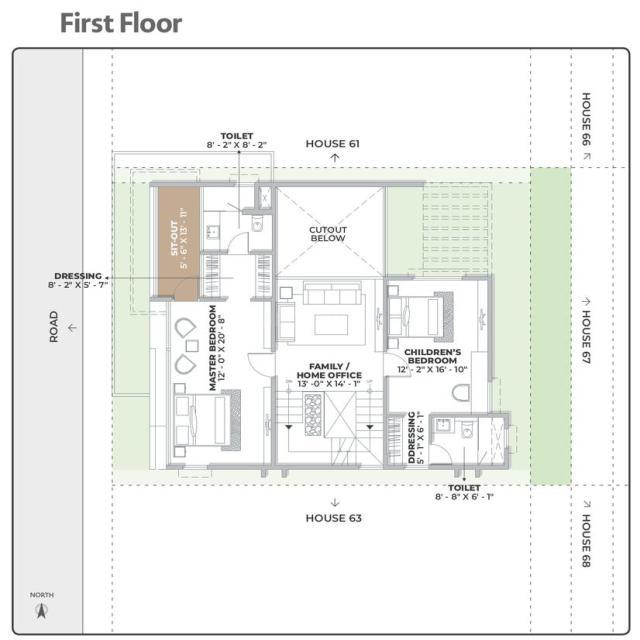Balcony-Sitout: (161, 188, 198, 294)
Bedroom with Toilet: (156, 186, 273, 470), (388, 282, 505, 464)
Dress: (203, 257, 268, 295), (388, 419, 426, 464)
Enterance-Foyer: (359, 446, 383, 470)
Living: (280, 283, 380, 461)
Toilet: (436, 420, 501, 461), (207, 214, 268, 249)
